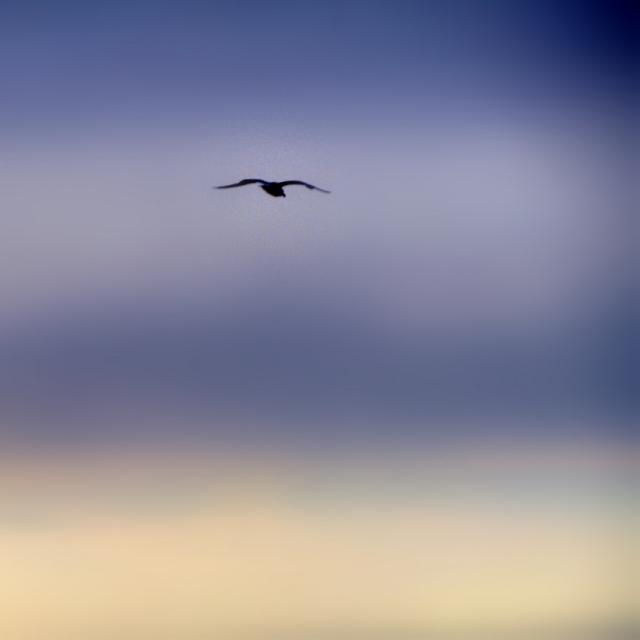bird: (212, 179, 338, 208)
